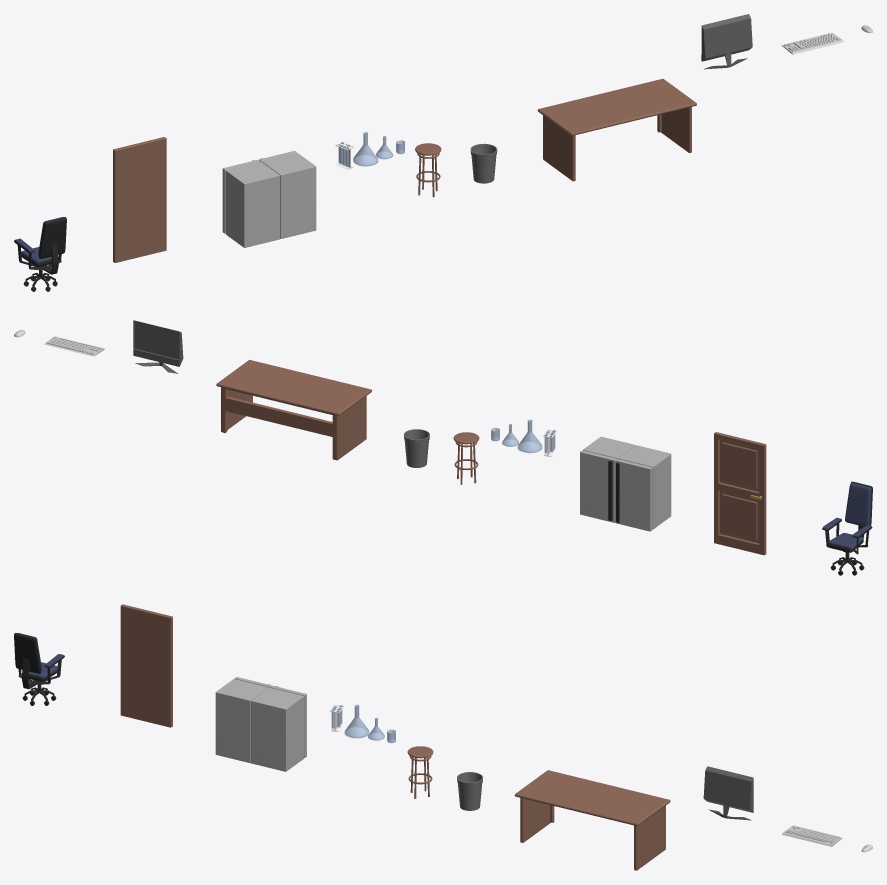
File: low_poly_laboratory_assets.glb
3 views of the same model, one above another, from view 1: azimuth 30°, elevation 25°; view 2: azimuth 150°, elevation 25°; view 3: azimuth 330°, elevation 25° (orthographic). The views are drawn at different scales.
Visible parts, largest first — view 1: pCube310, pCube21, pCube306, pCube304, pCube22, pCube19, round_bin, pCube135; view 2: pCube310, pCube21, pCube306, pCube22, pCube304, pCube19, pCube131, round_bin; view 3: pCube310, pCube21, pCube304, pCube306, pCube22, pCube19, round_bin, pCube135.
Boxes of the visible parts, x1,y1,x2,y2 form: pCube310: (113,137,166,262); pCube21: (537,78,696,135); pCube306: (222,159,279,247); pCube304: (259,151,316,238); pCube22: (543,107,691,181); pCube19: (701,14,752,61); round_bin: (470,143,497,183); pCube135: (39,217,66,258); pCube310: (714,432,766,555); pCube21: (216,360,372,415); pCube306: (615,445,671,531); pCube22: (221,387,366,460); pCube304: (580,436,635,522); pCube19: (133,320,183,366); pCube131: (845,483,871,526); round_bin: (403,429,429,467); pCube310: (120,604,172,727); pCube21: (514,770,670,826); pCube304: (251,685,306,771); pCube306: (215,677,271,763); pCube22: (520,798,665,870); pCube19: (703,766,753,812); round_bin: (457,772,482,810); pCube135: (14,633,41,673).
Size of the model in its own units: 111 by 14.69 by 8.39.
